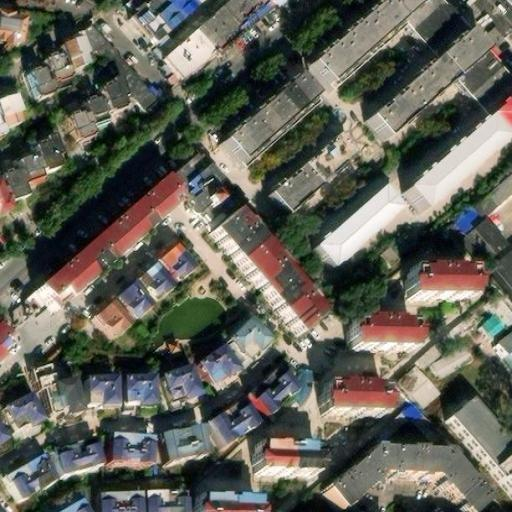building: (39, 174, 182, 313), (378, 7, 510, 127), (210, 207, 329, 333), (414, 92, 512, 202), (321, 451, 488, 512), (220, 72, 322, 168), (313, 185, 406, 272), (267, 130, 361, 216), (320, 0, 424, 73), (445, 401, 512, 498), (449, 161, 512, 264), (0, 135, 65, 215), (65, 76, 133, 144), (30, 35, 93, 98), (189, 162, 245, 228), (460, 44, 512, 111), (34, 361, 88, 414), (250, 365, 302, 416), (209, 397, 262, 447), (8, 452, 61, 500), (396, 361, 445, 411), (231, 314, 279, 362), (92, 297, 139, 344), (350, 320, 420, 351), (323, 385, 393, 416), (404, 273, 473, 304), (252, 446, 318, 477), (58, 434, 109, 473), (163, 423, 212, 462), (118, 278, 161, 321), (139, 259, 182, 302), (430, 338, 475, 378), (202, 344, 244, 386), (160, 241, 201, 283), (163, 364, 205, 403), (6, 392, 48, 428), (123, 372, 161, 408), (114, 431, 158, 462), (0, 92, 27, 140), (101, 488, 147, 512), (90, 372, 122, 406), (193, 496, 260, 512), (0, 322, 19, 366), (54, 494, 96, 512), (482, 314, 508, 340)
